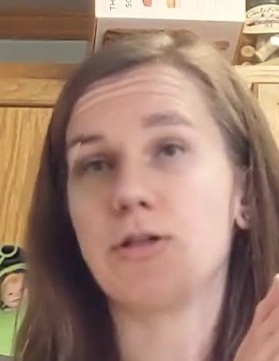eb_f: (66, 109, 201, 181)
